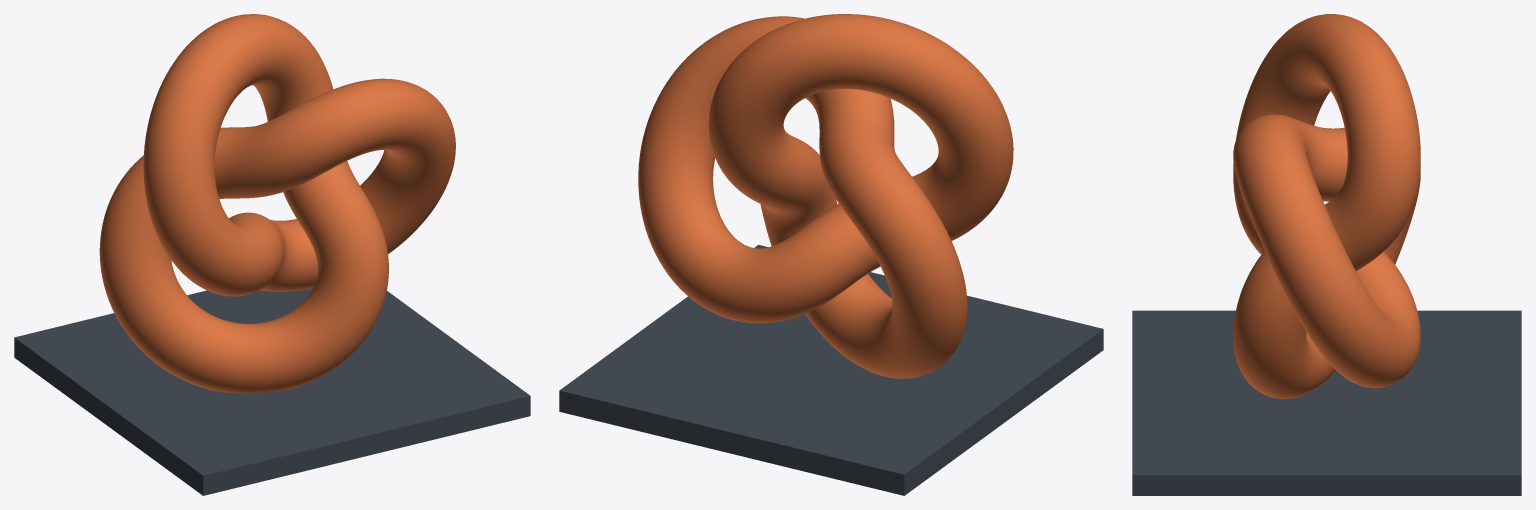
The model's file is torus-knot.obj.
3 renders of one model, left to right at view 1: azimuth 30°, elevation 25°; view 2: azimuth 150°, elevation 25°; view 3: azimuth 270°, elevation 25°, orthographic. The views are drawn at different scales.
Parts seen in each view (by area): view 1: TorusKnot, Plate; view 2: TorusKnot, Plate; view 3: TorusKnot, Plate.
Part boxes in pixels (x1,y1,x2,y2): TorusKnot: (99, 14, 455, 393); Plate: (14, 288, 530, 495); TorusKnot: (638, 14, 1013, 378); Plate: (559, 244, 1103, 495); TorusKnot: (1233, 14, 1420, 398); Plate: (1132, 310, 1521, 495).
Size of the model in its own units: 3.52 by 3.58 by 3.4.
